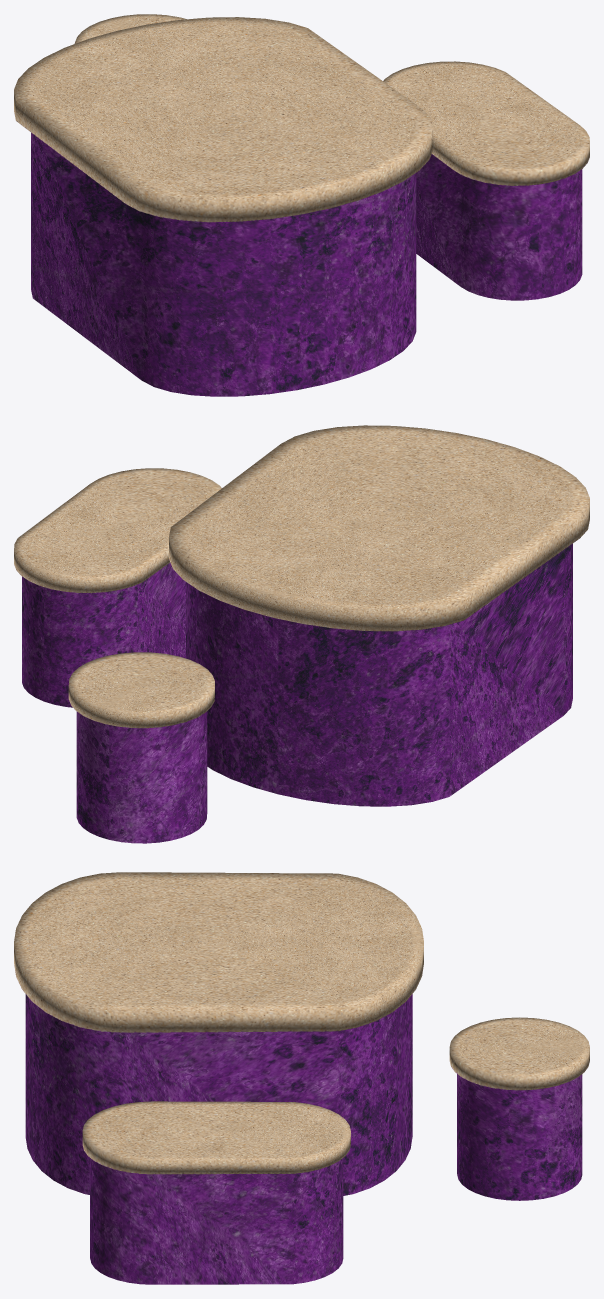
The model's file is montañas.fbx.
3 renders of one model, top to bottom at view 1: azimuth 30°, elevation 25°; view 2: azimuth 150°, elevation 25°; view 3: azimuth 270°, elevation 25°, orthographic. The views are drawn at different scales.
Visible parts, largest first — view 1: Montaña, Montaña.002, Montaña.001; view 2: Montaña, Montaña.002, Montaña.001; view 3: Montaña, Montaña.002, Montaña.001.
Boxes of the visible parts, x1,y1,x2,y2 form: Montaña: (14,17,433,396); Montaña.002: (383,61,589,300); Montaña.001: (74,14,186,43); Montaña: (169,425,589,806); Montaña.002: (14,468,221,707); Montaña.001: (68,652,214,843); Montaña: (14,872,423,1195); Montaña.002: (82,1101,350,1284); Montaña.001: (449,1017,589,1200).
Bounding box in the file's own units: 835 × 343 × 919.
